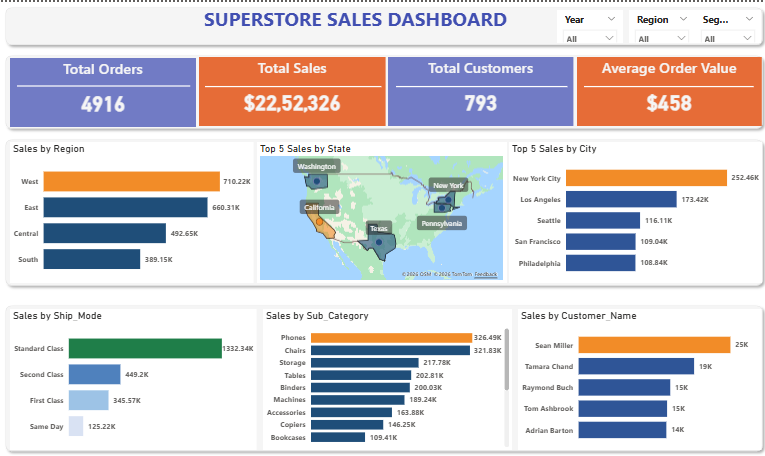

This screenshot's page, from the dashboard's own definition file:
{"tool":"powerbi","page":{"name":"Detail View","canvas":[1280,800],"ordinal":1},"visuals":[{"type":"shape","box":[0,80,1280,140],"z":0},{"type":"shape","box":[0,0,1280,80.6],"z":1000},{"type":"textbox","box":[334.3,0,542.6,80.6],"z":2000},{"type":"card","title":"Total Orders","fields":{"Values":["superstore_sales_cleaned.Total Orders"]},"box":[16.4,92.6,310,115],"z":3000},{"type":"card","title":"Total Sales","fields":{"Values":["superstore_sales_cleaned.Total Sales"]},"box":[331.5,92.3,310.8,115.4],"z":4000},{"type":"card","title":"Total Customers","fields":{"Values":["superstore_sales_cleaned.Total Customers"]},"box":[647.3,92.3,309.2,115.4],"z":5000},{"type":"card","title":"Average Order Value","fields":{"Values":["superstore_sales_cleaned.Avg Order_Value"]},"box":[961.5,92.3,307.7,115.4],"z":6000},{"type":"shape","box":[660,131.4,285.7,18.6],"z":7000},{"type":"shape","box":[28.6,130,288.6,20],"z":8000},{"type":"shape","box":[341.4,131.4,294.3,18.6],"z":9000},{"type":"shape","box":[972.9,131.4,282.9,18.6],"z":10000},{"type":"shape","box":[0,220,1280,261.5],"z":11000},{"type":"shape","box":[0,496.9,1280,261],"z":12000},{"type":"barChart","title":"Sales by Region","fields":{"Category":["superstore_sales_cleaned.Region"],"Y":["superstore_sales_cleaned.Total Sales"]},"box":[16.9,233.8,406.2,235.4],"z":13000},{"type":"azureMap","title":"Top 5 Sales by State","fields":{"Category":["superstore_sales_cleaned.State"],"Y":["superstore_sales_cleaned.Total Sales"]},"box":[427.7,233.8,415.4,235.4],"z":14000},{"type":"barChart","title":"Top 5 Sales by City","fields":{"Category":["superstore_sales_cleaned.City"],"Y":["superstore_sales_cleaned.Total Sales"]},"box":[847.7,233.8,421.5,235.4],"z":15000},{"type":"barChart","title":"Sales by Ship_Mode","fields":{"Category":["superstore_sales_cleaned.Ship_Mode"],"Y":["superstore_sales_cleaned.Total Sales"]},"box":[16.9,512.3,410.8,235.4],"z":16000},{"type":"barChart","title":"Sales by Sub_Category","fields":{"Y":["superstore_sales_cleaned.Total Sales"],"Category":["superstore_sales_cleaned.Sub_Category"]},"box":[437.7,512.3,415.4,235.4],"z":17000},{"type":"barChart","title":"Sales by Customer_Name","fields":{"Y":["superstore_sales_cleaned.Total Sales"],"Category":["superstore_sales_cleaned.Customer_Name"]},"box":[863.1,512.3,406.2,235.4],"z":18000},{"type":"slicer","fields":{"Values":["superstore_sales_cleaned.Order_Date.Variation.Date Hierarchy.Year"]},"box":[928.6,12.9,110,54.3],"z":18001},{"type":"slicer","fields":{"Values":["superstore_sales_cleaned.Region"]},"box":[1048.6,12.9,110,54.3],"z":18002},{"type":"slicer","fields":{"Values":["superstore_sales_cleaned.Segment"]},"box":[1158.6,12.9,110,54.3],"z":18003}]}

Visuals, with their boxes on the page's 1280x800 design canvas (x1, y1, x2, y2). These are canvas units, not pixel positions in the 765x456 screenshot, which may show the page scaled, cropped or inside an application window:
shape: (0, 80, 1280, 220)
shape: (0, 0, 1280, 81)
textbox: (334, 0, 877, 81)
"Total Orders" card: (16, 93, 326, 208)
"Total Sales" card: (332, 92, 642, 208)
"Total Customers" card: (647, 92, 956, 208)
"Average Order Value" card: (962, 92, 1269, 208)
shape: (660, 131, 946, 150)
shape: (29, 130, 317, 150)
shape: (341, 131, 636, 150)
shape: (973, 131, 1256, 150)
shape: (0, 220, 1280, 482)
shape: (0, 497, 1280, 758)
"Sales by Region" barChart: (17, 234, 423, 469)
"Top 5 Sales by State" azureMap: (428, 234, 843, 469)
"Top 5 Sales by City" barChart: (848, 234, 1269, 469)
"Sales by Ship_Mode" barChart: (17, 512, 428, 748)
"Sales by Sub_Category" barChart: (438, 512, 853, 748)
"Sales by Customer_Name" barChart: (863, 512, 1269, 748)
slicer - superstore_sales_cleaned.Order_Date.Variation.Date Hierarchy.Year: (929, 13, 1039, 67)
slicer - superstore_sales_cleaned.Region: (1049, 13, 1159, 67)
slicer - superstore_sales_cleaned.Segment: (1159, 13, 1269, 67)
